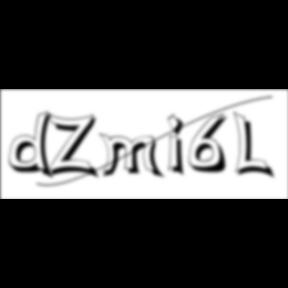6: (190, 112, 234, 176)
L: (234, 110, 278, 182)
Z: (48, 112, 102, 181)
d: (9, 110, 59, 182)
i: (167, 112, 191, 180)
m: (99, 132, 167, 181)
